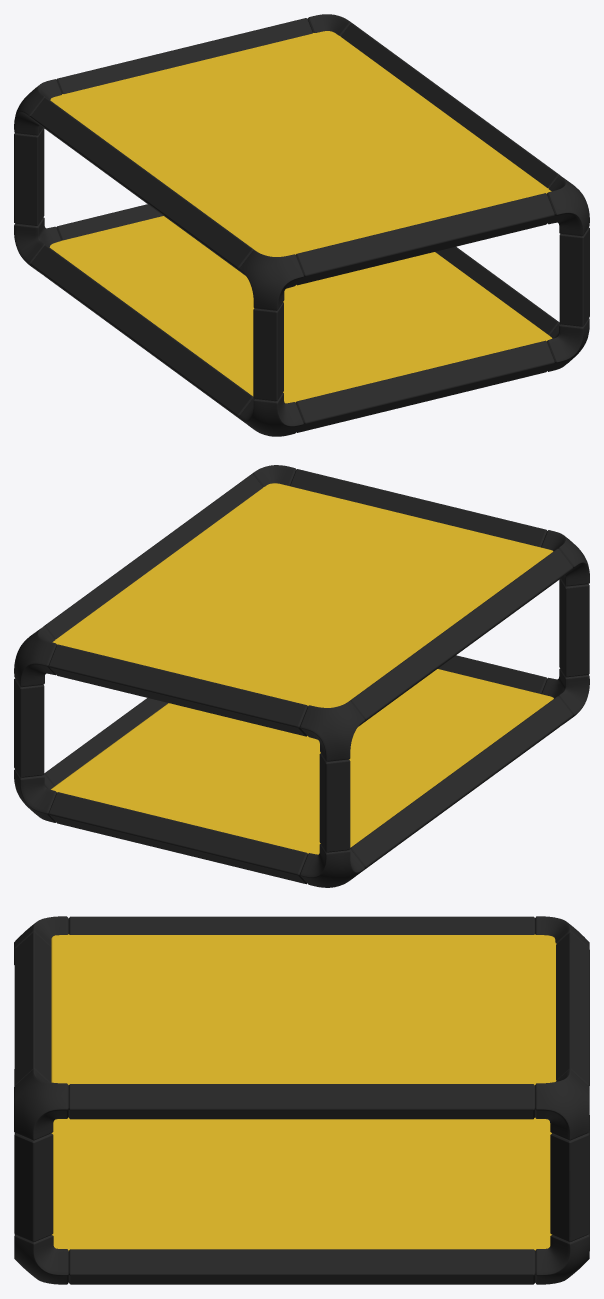
3 renders of one model, top to bottom at view 1: azimuth 30°, elevation 25°; view 2: azimuth 150°, elevation 25°; view 3: azimuth 270°, elevation 25°, orthographic. The views are drawn at different scales.
Parts seen in each view (by area): view 1: 229x329x79; view 2: 229x329x79; view 3: 229x329x79.
Boxes of the visible parts, bbox=[...] form: 229x329x79: bbox=[14, 14, 589, 436]; 229x329x79: bbox=[14, 465, 589, 887]; 229x329x79: bbox=[14, 916, 589, 1284].
Bounding box in the file's own units: 0.3067 × 0.1566 × 0.4063.
